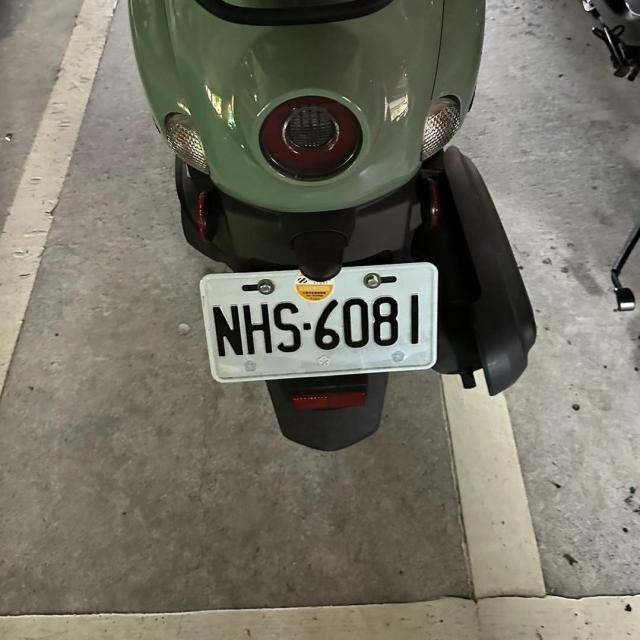W: (195, 252, 446, 386)
